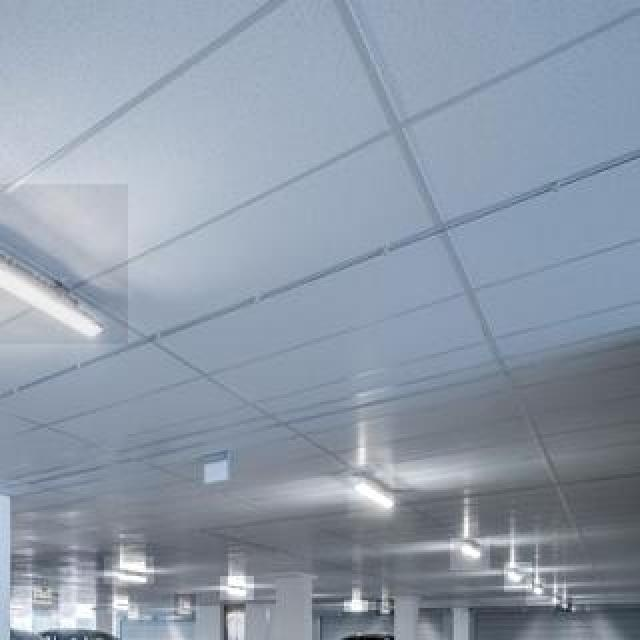fluorescent tube: (0, 214, 114, 340), (336, 460, 404, 524), (433, 502, 487, 571), (87, 560, 173, 593), (211, 551, 254, 611), (92, 554, 172, 586), (453, 526, 482, 578)
